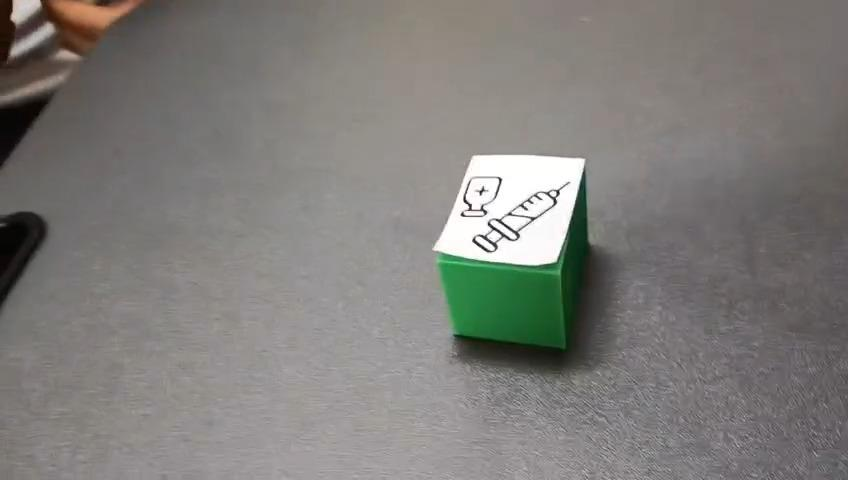antiseptic cream: (431, 152, 590, 351)
